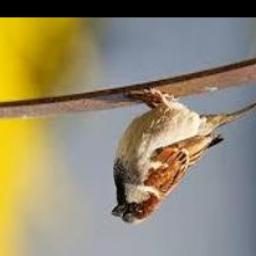Sparrow: (111, 87, 256, 225)
